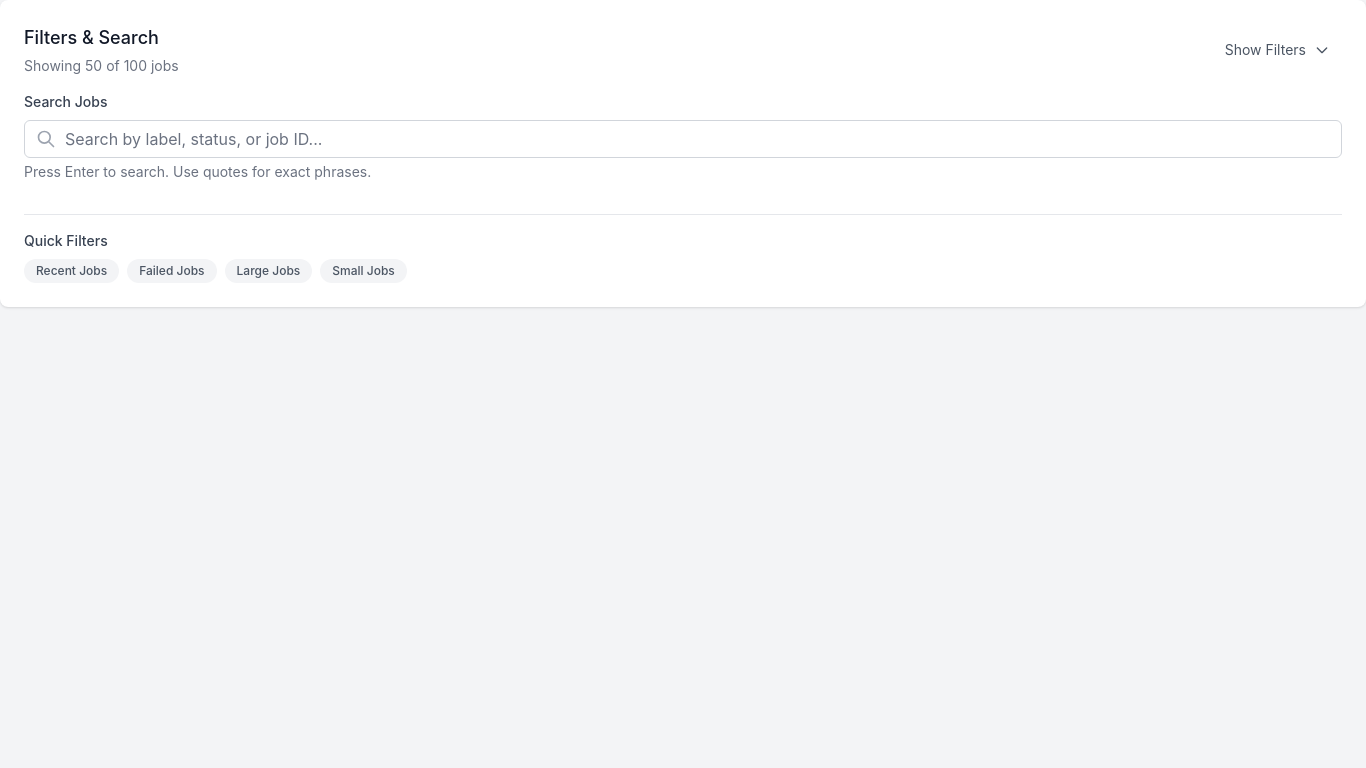
JobFilters › toggles filters section visibility
The width and height of the screenshot is (1366, 768).
# Click to expand
Click the button "Show Filters" at x=1277, y=50, box [1213,32,1342,68]
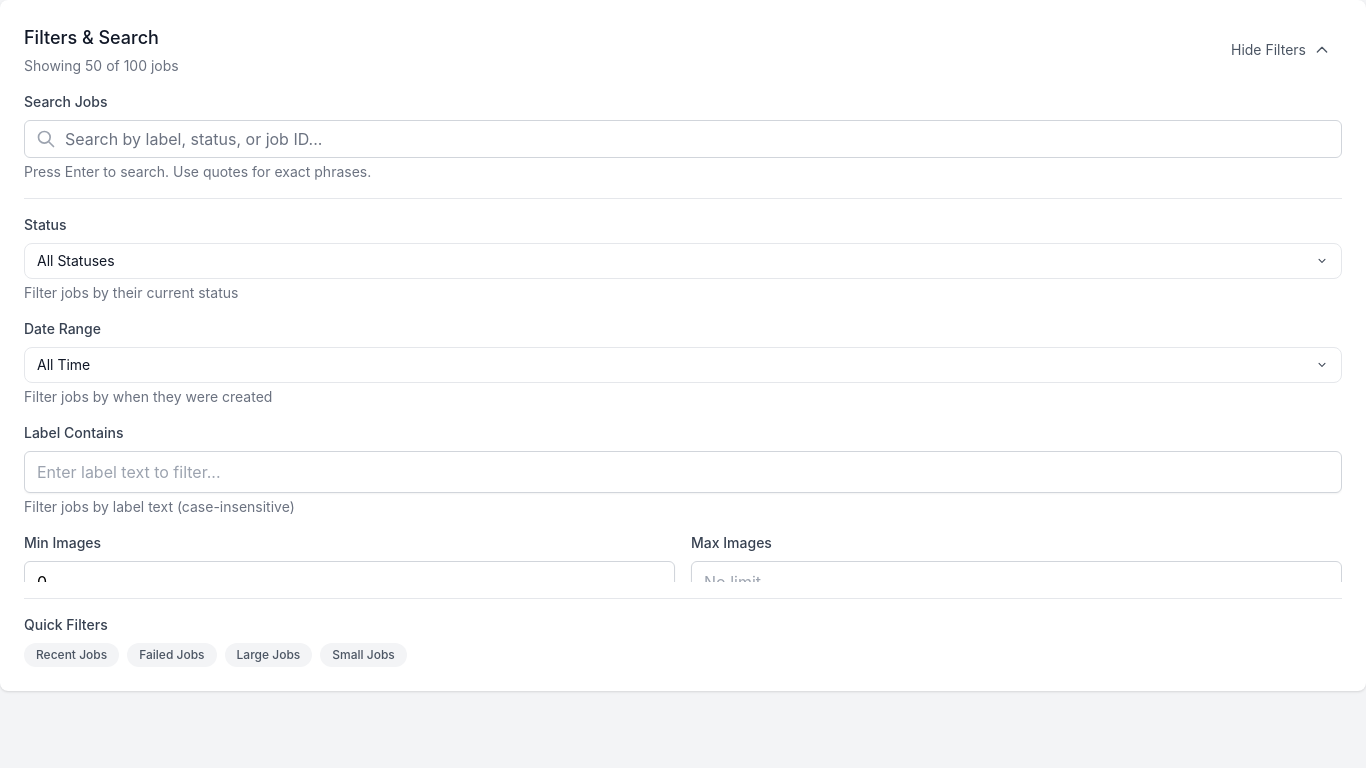
Expected: the text "Hide Filters" is shown, [1231,40,1306,60]
# Click to collapse
Click the button "Hide Filters" at x=1280, y=50, box [1219,32,1342,68]
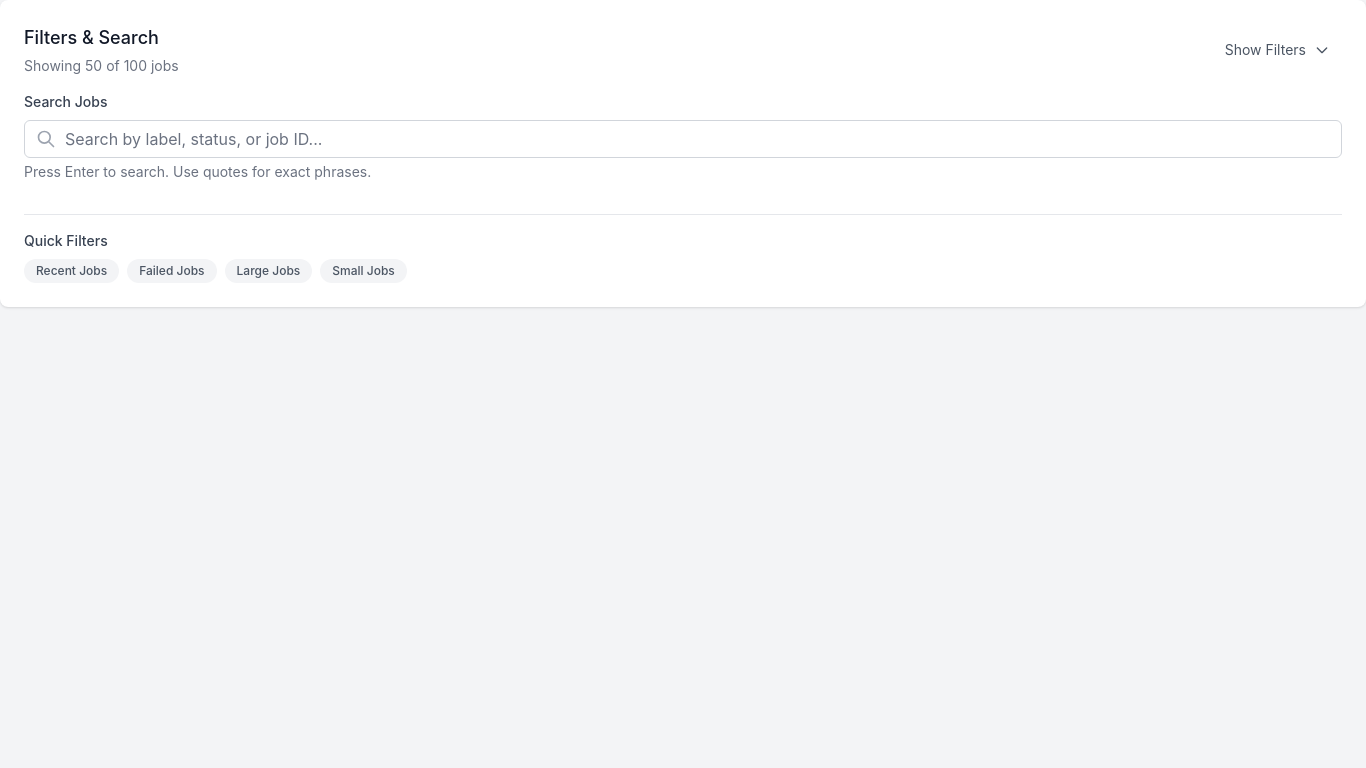
Expected: the text "Show Filters" is shown, [1225,40,1306,60]
